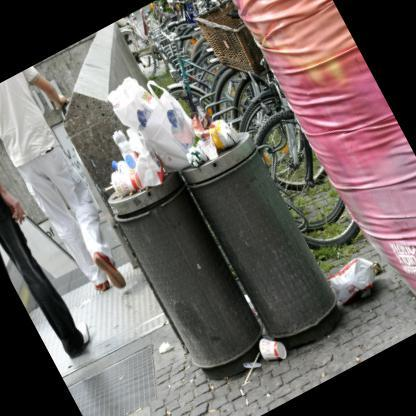Garbage: (110, 66, 214, 184), (93, 121, 168, 198), (326, 242, 398, 318), (173, 101, 240, 166), (245, 324, 293, 378)
